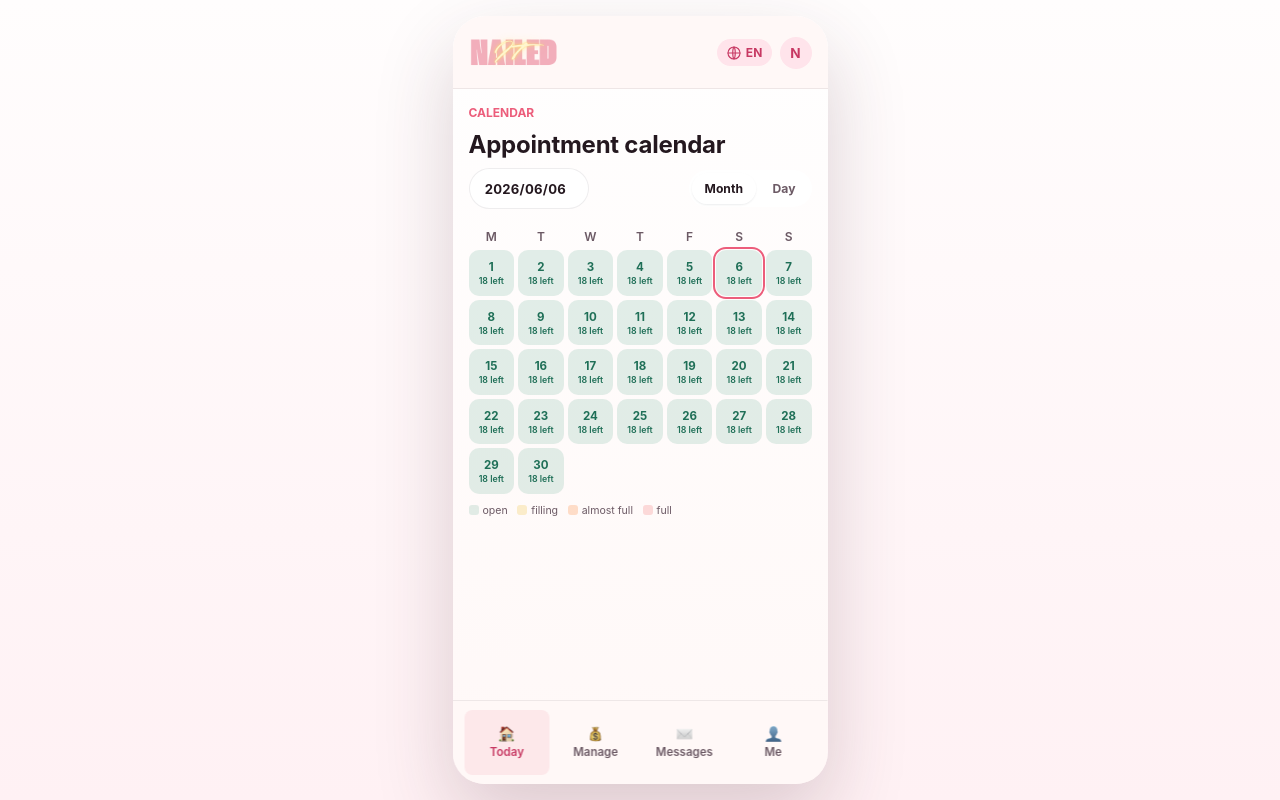
Scenario: MerchantSchedulePage (full calendar) › shows the empty state for a live date with no bookings
This screenshot has width=1280, height=800.
Click the tab "Day".
click(784, 189)  # box [760,173,808,204]
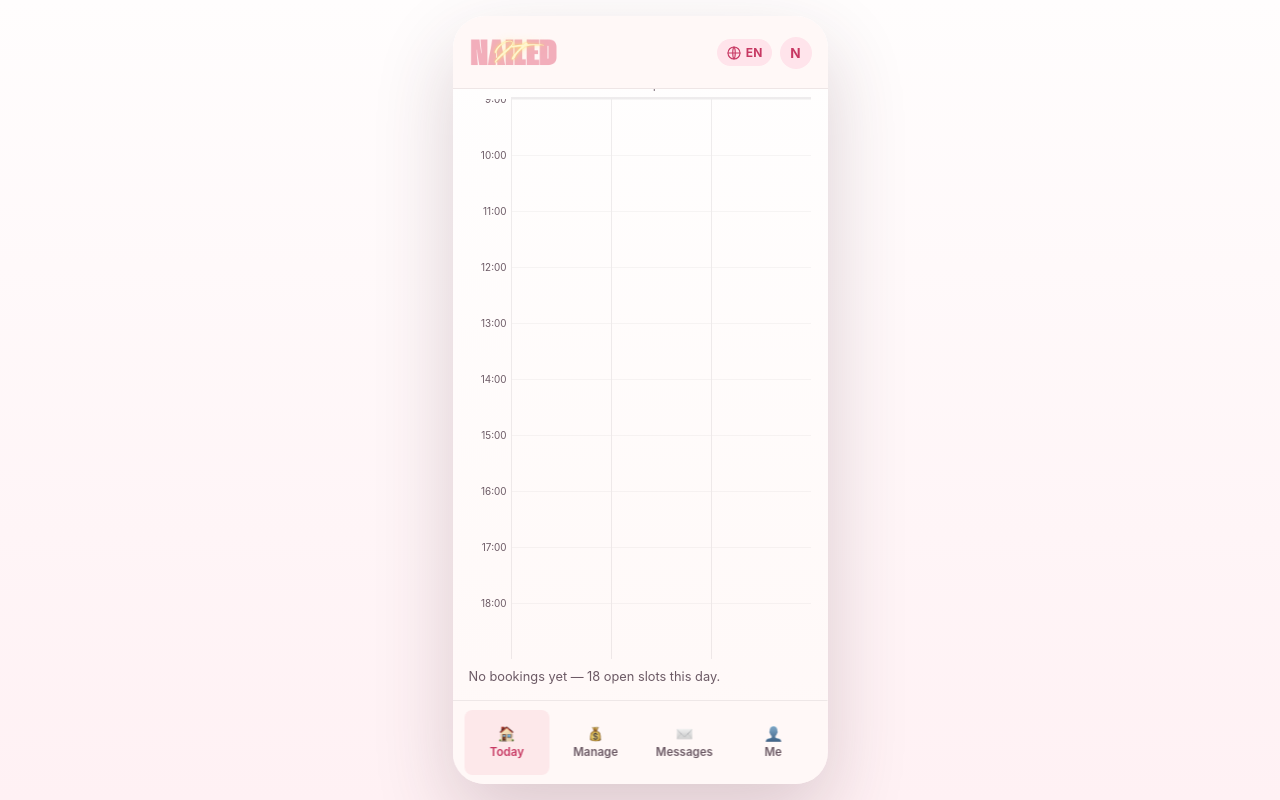
Expected: the text "No bookings yet — 18 open slots this day." is shown, [468,668,720,684]
